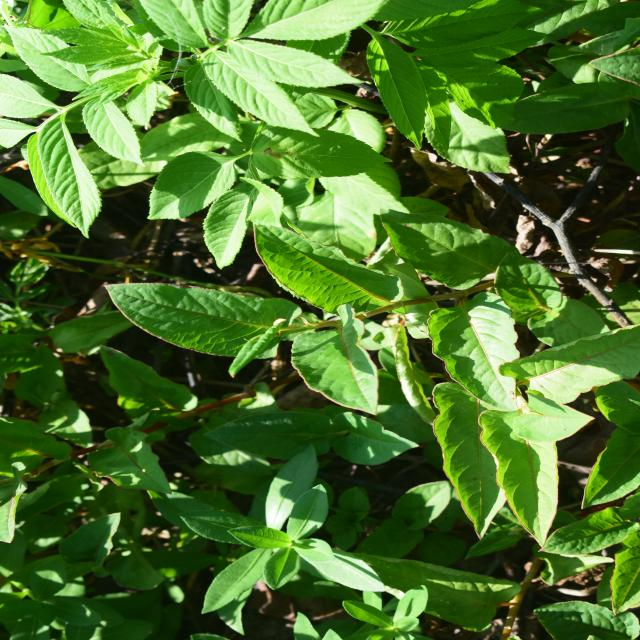Chinese_knotweed: (228, 114, 422, 526), (126, 389, 320, 617)
